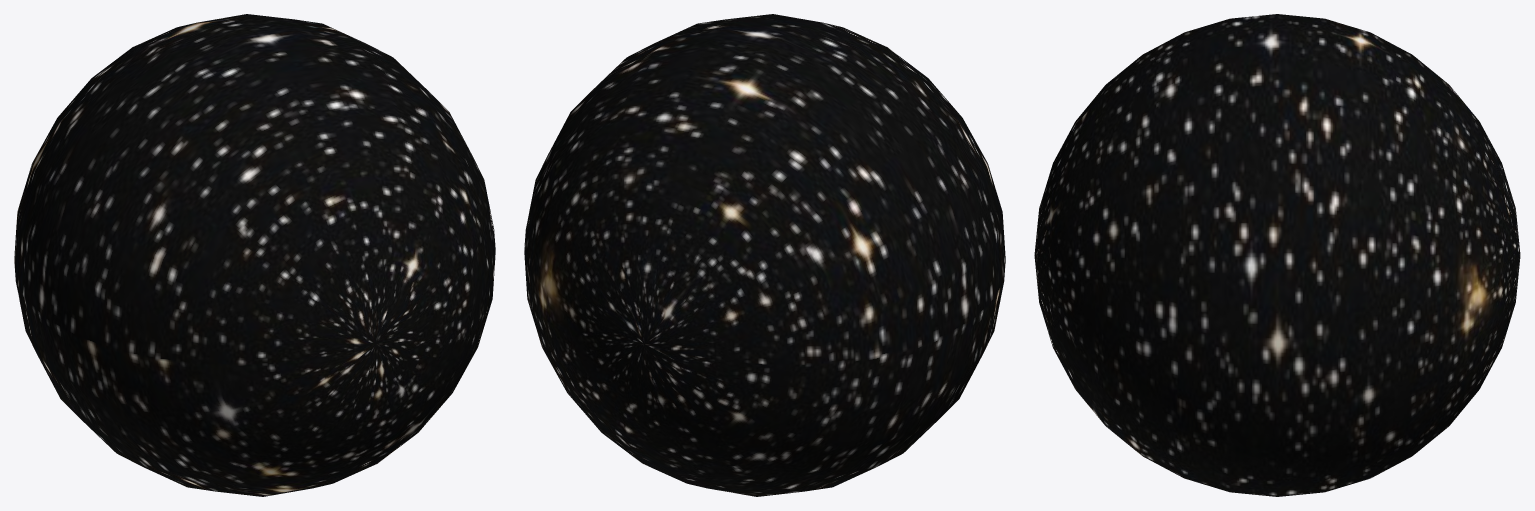
Rendered from planet.dae.
The picture shows the model from 3 angles, left to right: view 1: azimuth 30°, elevation 25°; view 2: azimuth 150°, elevation 25°; view 3: azimuth 270°, elevation 25°; orthographic projection.
Parts seen in each view (by area): view 1: Model; view 2: Model; view 3: Model.
Boxes of the visible parts, bbox=[...] form: Model: bbox=[14, 14, 495, 496]; Model: bbox=[524, 14, 1005, 496]; Model: bbox=[1034, 14, 1520, 496].
Size of the model in its own units: 112 by 112 by 112.
